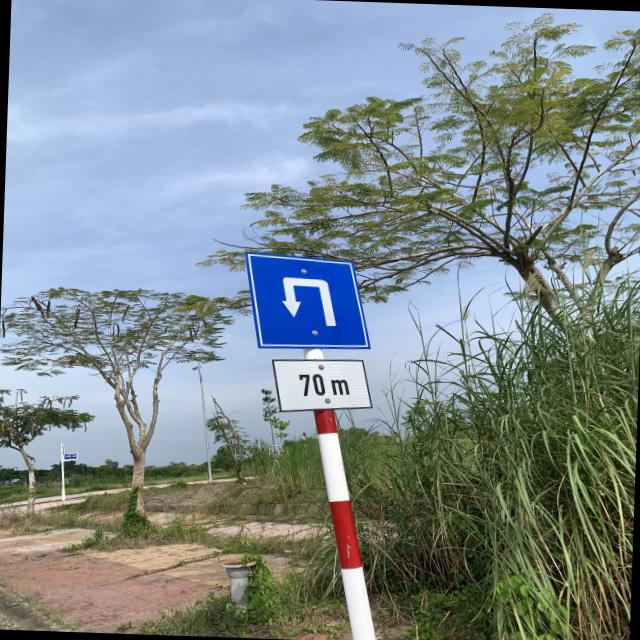Den_Giao_Thong: (243, 252, 374, 352)
